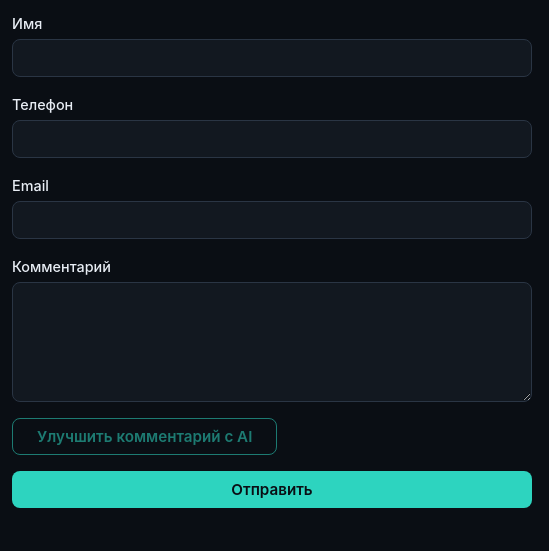
Test: ContactForm › shows field error from server validation details
Type "Артем Репин" into the field labelled "Имя".
click(272, 58); type("Артем Репин")  # box [12,39,532,77]
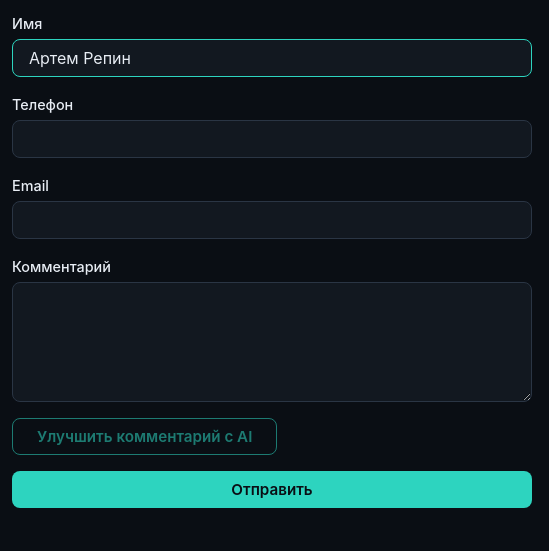
Type "+7 999 123 45 67" into the field labelled "Телефон".
click(272, 139); type("+7 999 123 45 67")  # box [12,120,532,158]
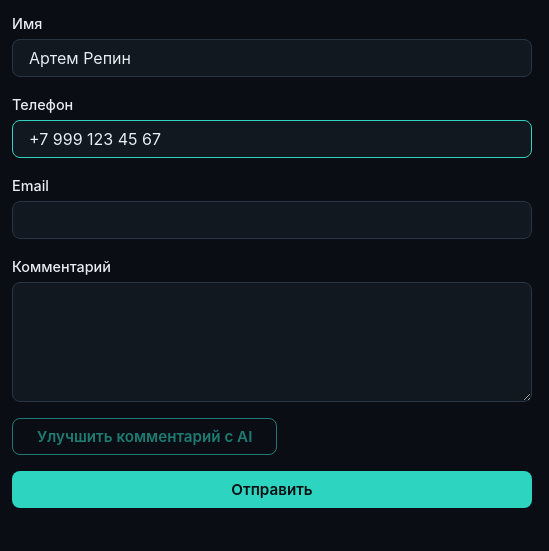
Type "bad" into the field labelled "Email".
click(272, 220); type("bad")  # box [12,201,532,239]
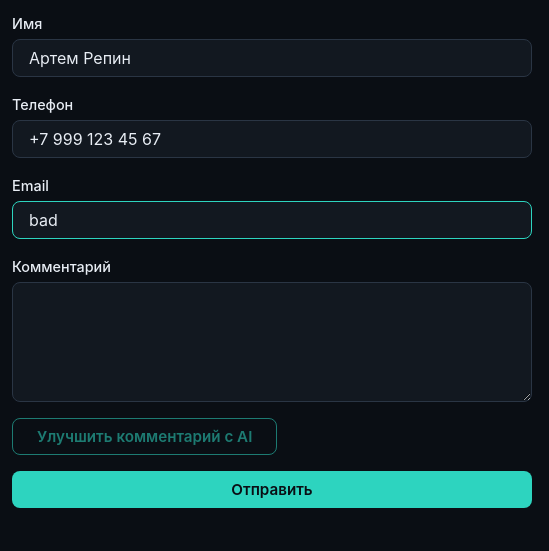
Type "Достаточно длинный комментарий для формы" into the text box labelled "Комментарий".
click(272, 342); type("Достаточно длинный комментарий для формы")  # box [12,282,532,402]
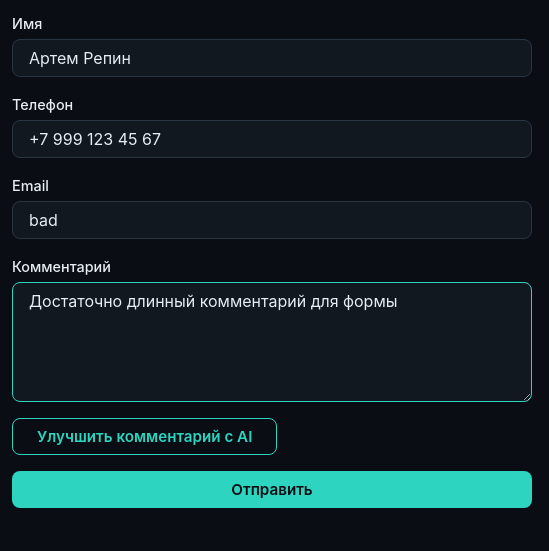
Click the button "Отправить".
click(272, 490)  # box [12,471,532,508]
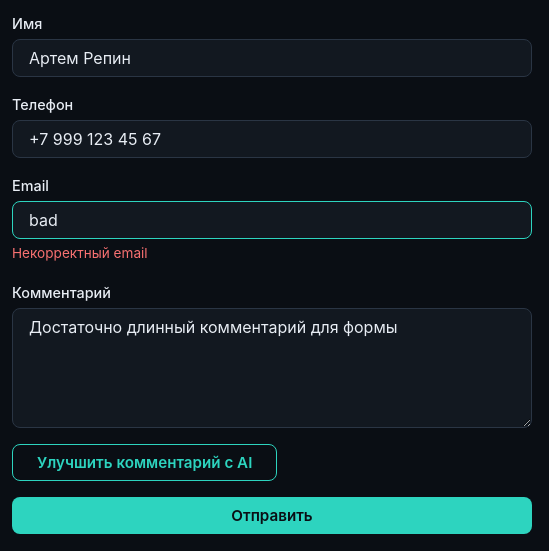
Now the text "Некорректный email" is shown, box [12,245,148,261]
